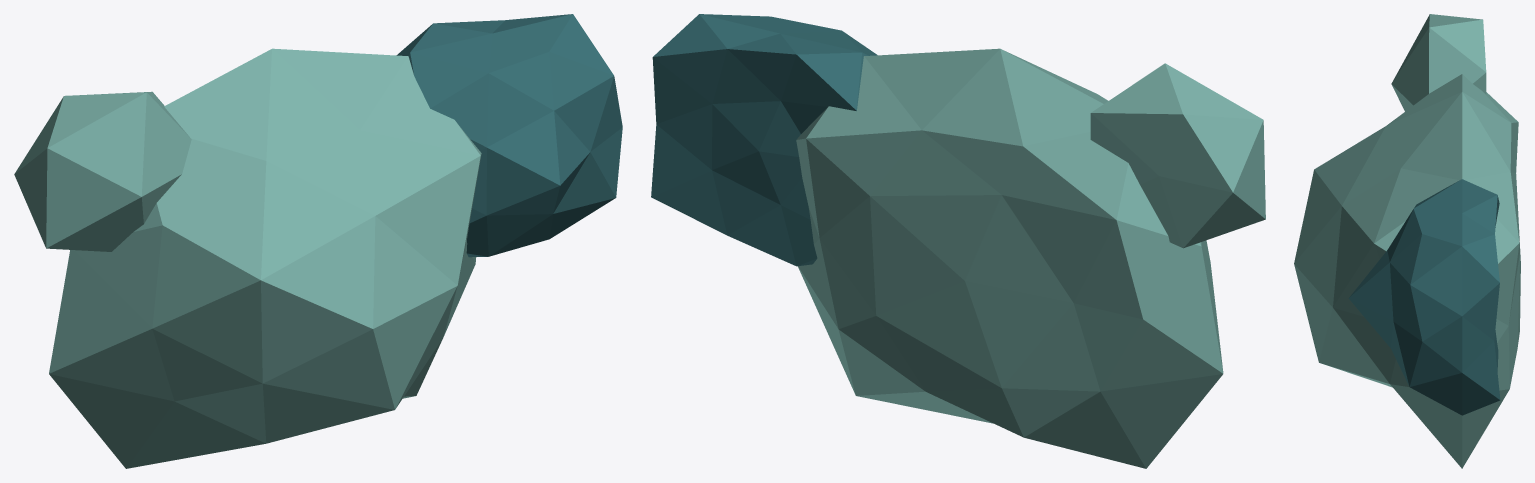
File: rocs.glb
3 views of the same model, side by side, from view 1: azimuth 30°, elevation 25°; view 2: azimuth 150°, elevation 25°; view 3: azimuth 270°, elevation 25° (orthographic). The views are drawn at different scales.
Visible parts, largest first — view 1: gros, moyen, petit; view 2: gros, moyen, petit; view 3: gros, moyen, petit.
Boxes of the visible parts, <box> form: gros: <box>49,48,481,468</box>; moyen: <box>396,14,622,257</box>; petit: <box>14,91,191,251</box>; gros: <box>796,48,1223,468</box>; moyen: <box>651,14,877,266</box>; petit: <box>1090,63,1265,248</box>; gros: <box>1294,74,1520,468</box>; moyen: <box>1348,179,1500,415</box>; petit: <box>1391,14,1486,111</box>.
Size of the model in its own units: 3.69 by 2.38 by 1.5.
